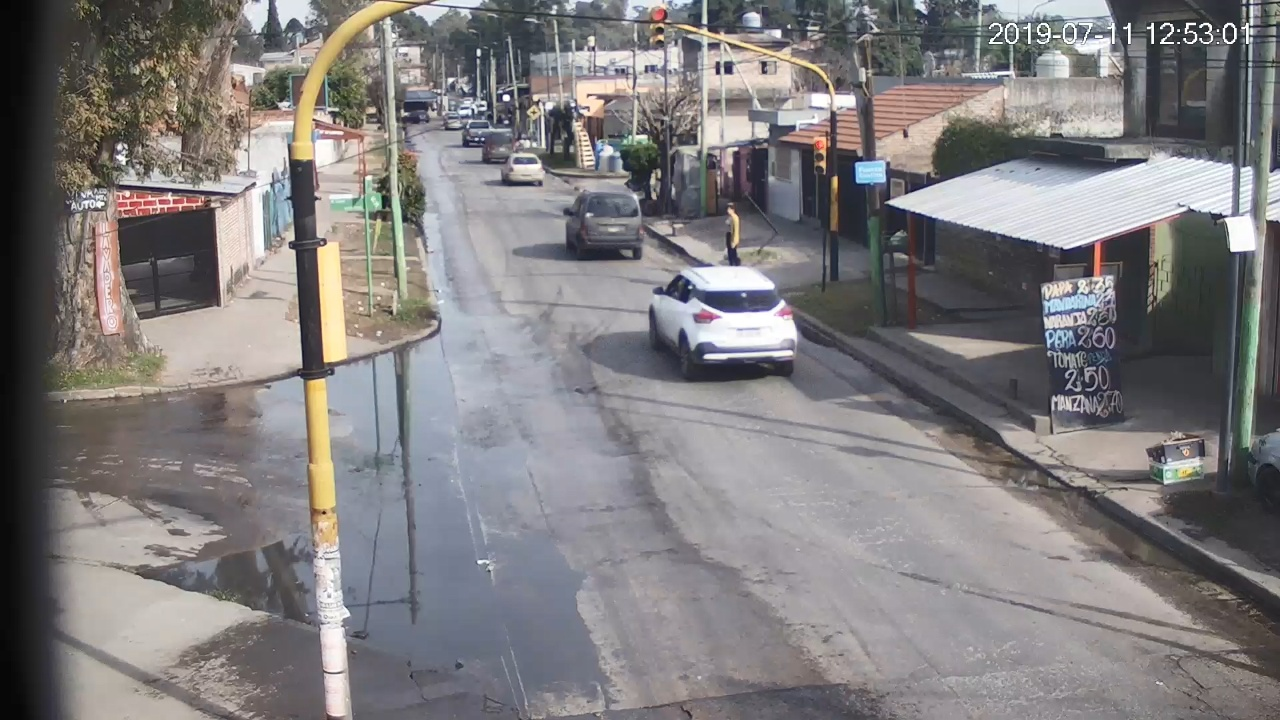car: (648, 265, 798, 377)
traffic light: (650, 6, 666, 48), (813, 137, 826, 175)
